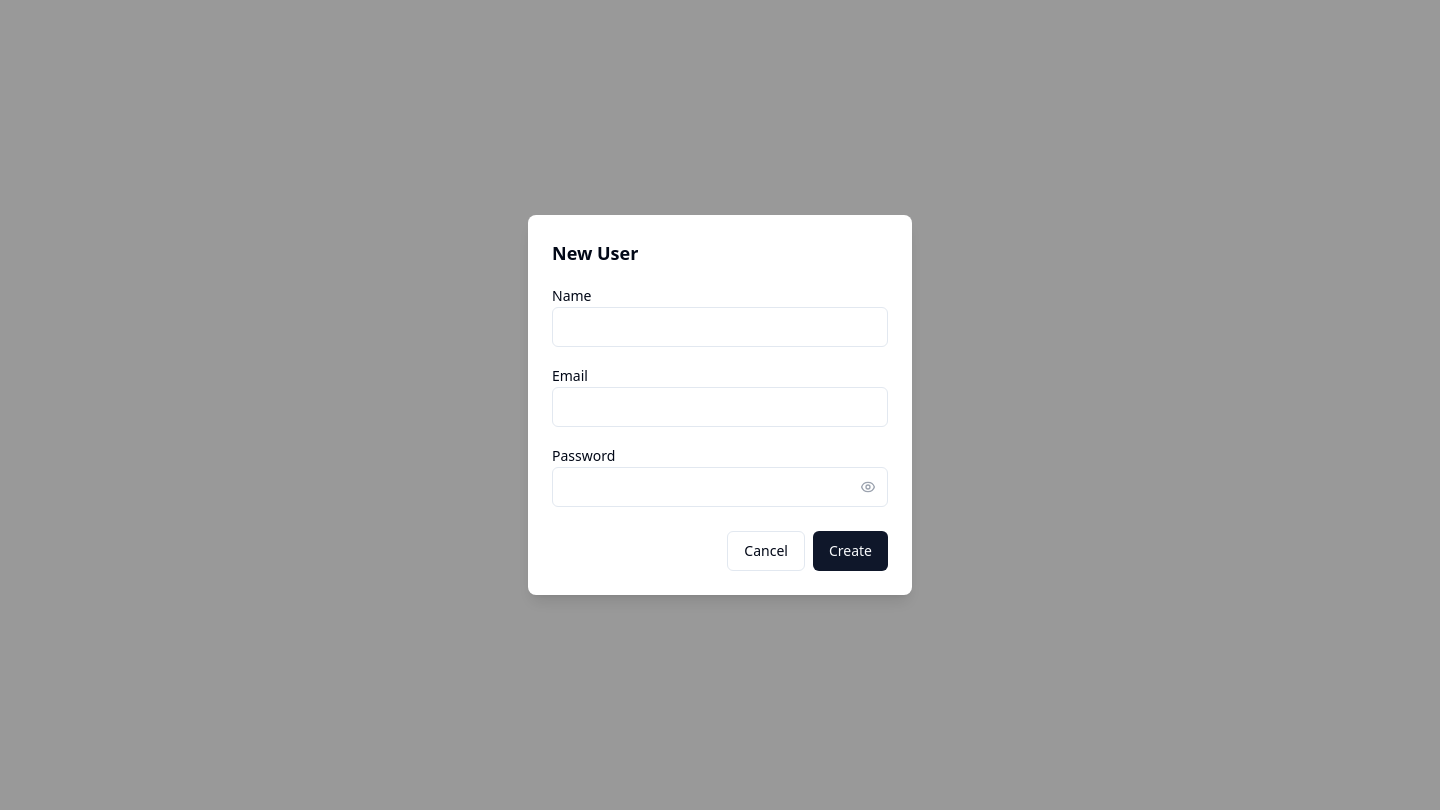
Test: CreateUserModal › validation › shows error when name is less than 3 characters
This screenshot has width=1440, height=810.
Type "ab" into the field labelled "Name" at (720, 327), box left=552, top=307, right=888, bottom=347
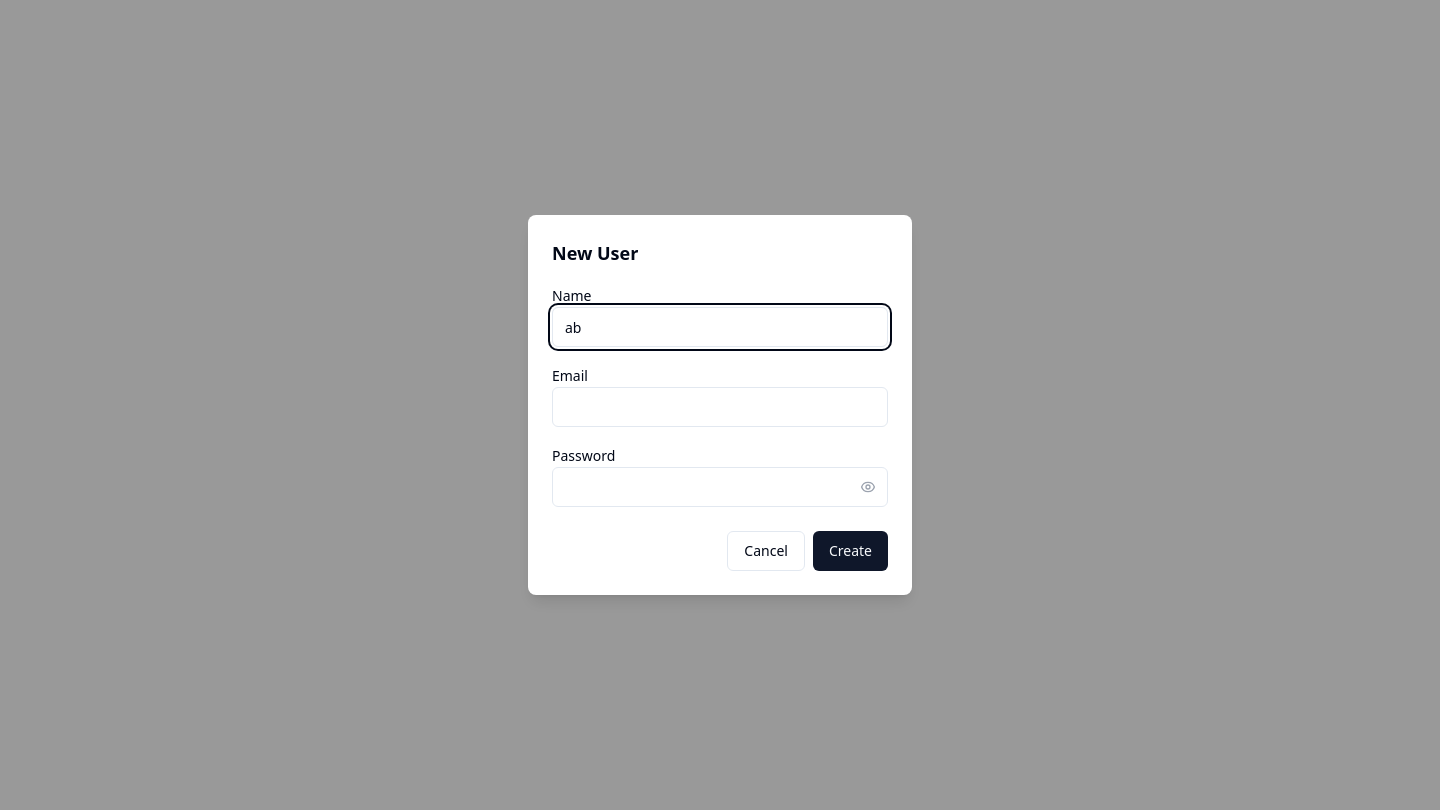
Type "test@example.com" into the field labelled "Email" at (720, 407), box left=552, top=387, right=888, bottom=427
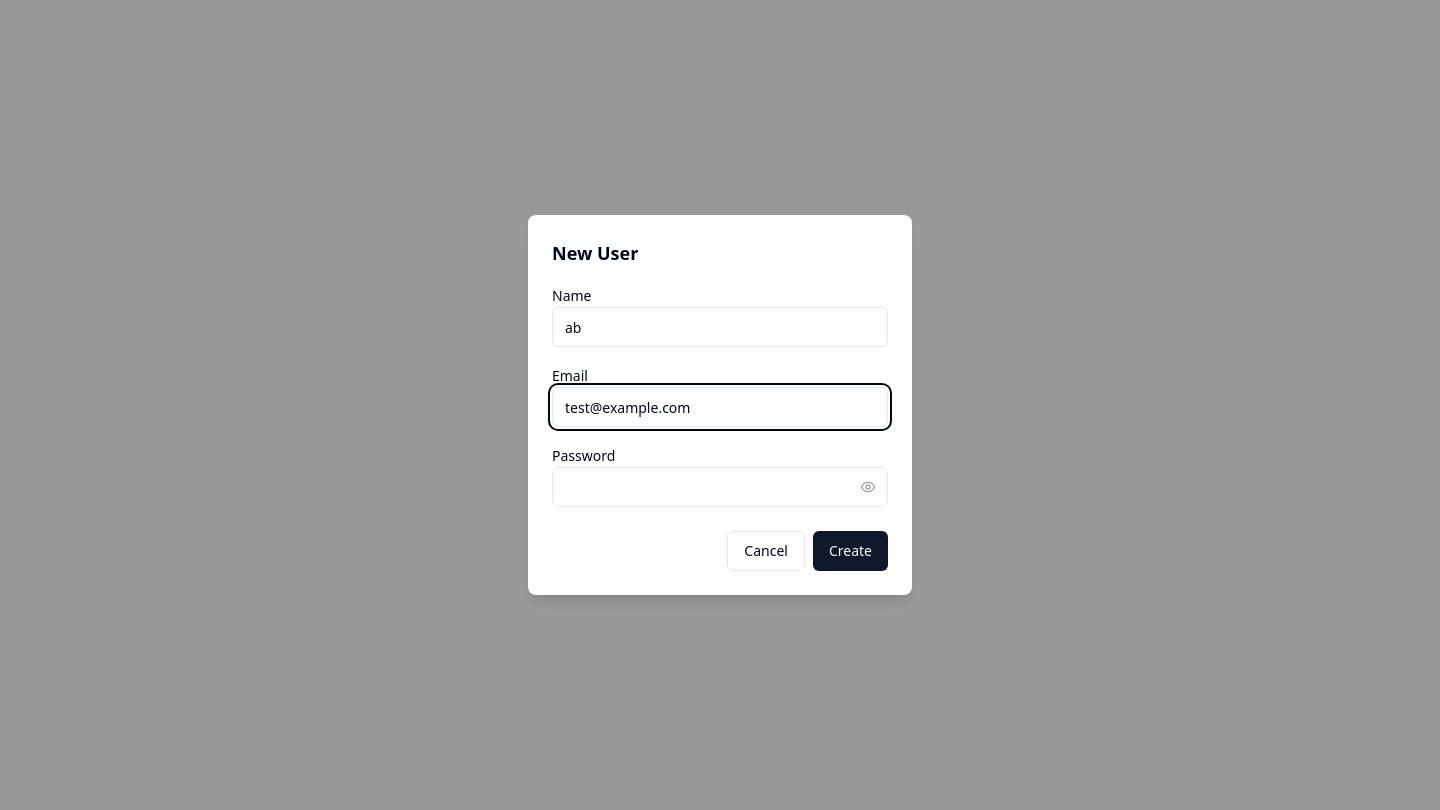
Type "password1" into the password field labelled "Password" at (720, 487), box left=552, top=467, right=888, bottom=507
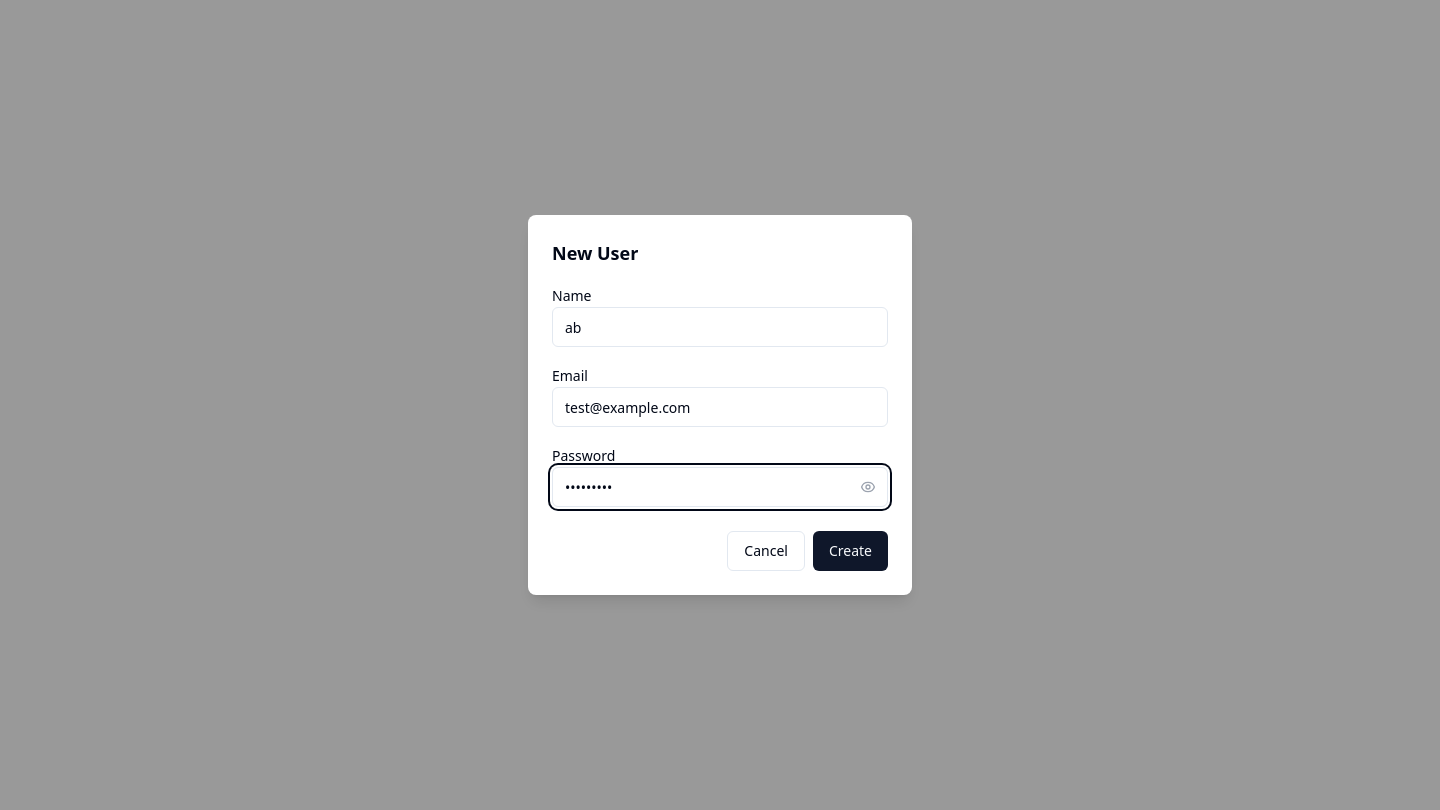
Click the button "Create" at (850, 551), box left=813, top=531, right=888, bottom=571
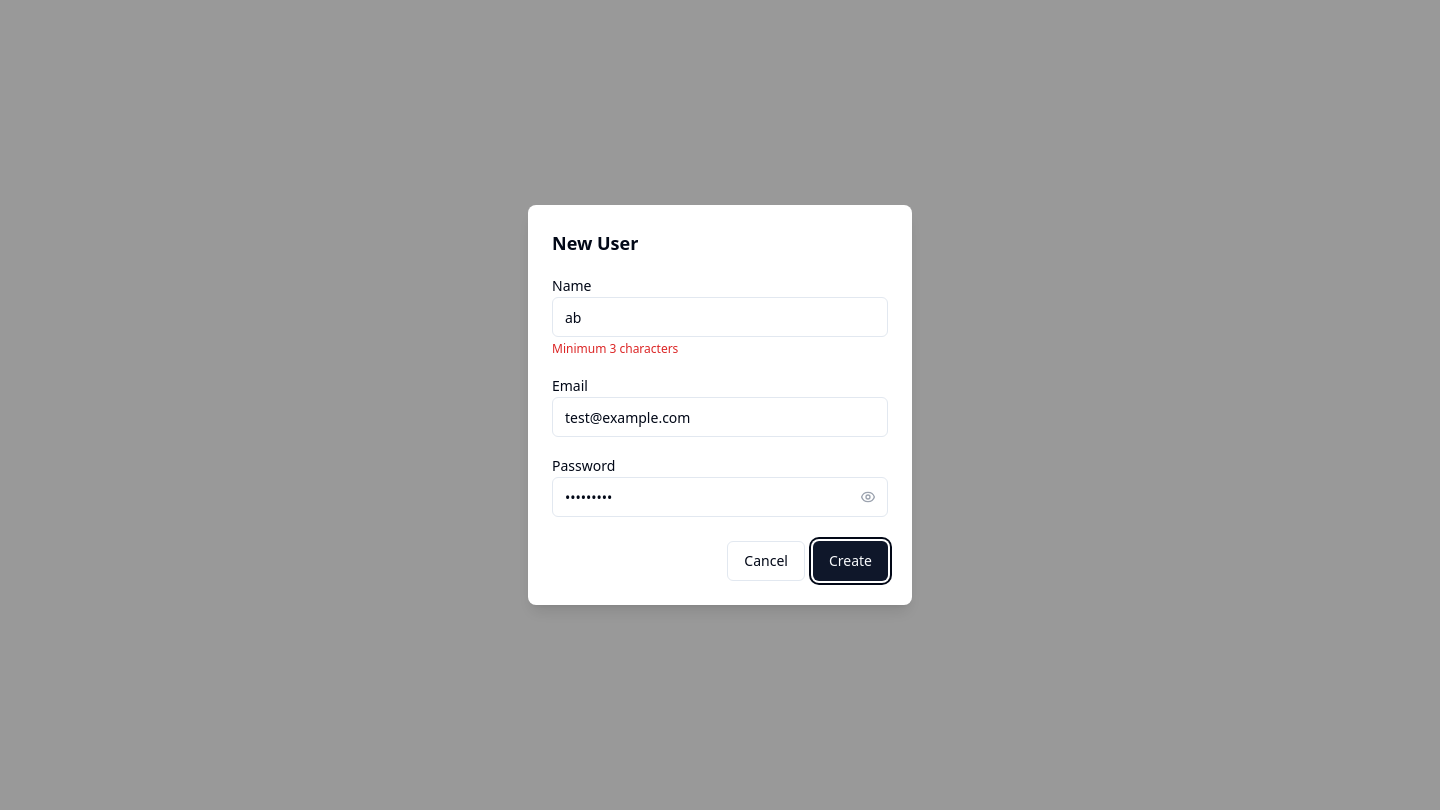
Now the text "Minimum 3 characters" is shown, box left=552, top=340, right=678, bottom=357
